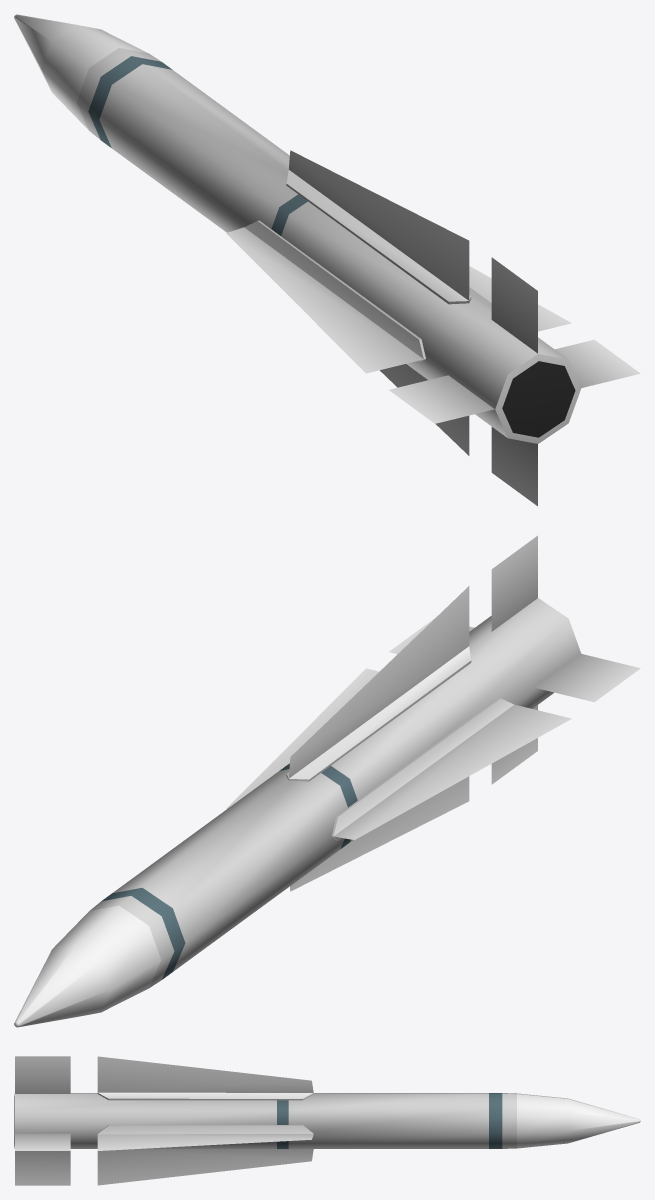
Rendered from aam_aim54.glb.
The picture shows the model from 3 angles, top to bottom: view 1: azimuth 30°, elevation 25°; view 2: azimuth 150°, elevation 25°; view 3: azimuth 270°, elevation 25°; orthographic projection. The views are drawn at different scales.
Parts seen in each view (by area): view 1: body|white, body|silver_metal, body|black, body|blue; view 2: body|white, body|silver_metal, body|blue; view 3: body|white, body|silver_metal, body|blue.
Part boxes in pixels (x1,y1,x2,y2): body|white: [14, 14, 640, 506]; body|silver_metal: [76, 48, 581, 443]; body|black: [502, 361, 575, 437]; body|blue: [88, 56, 307, 235]; body|white: [14, 535, 640, 1027]; body|silver_metal: [90, 598, 581, 988]; body|blue: [101, 763, 357, 979]; body|white: [15, 1056, 640, 1185]; body|silver_metal: [14, 1093, 516, 1148]; body|blue: [277, 1093, 502, 1148].
Size of the model in its own units: 0.9086 by 0.9086 by 4.
